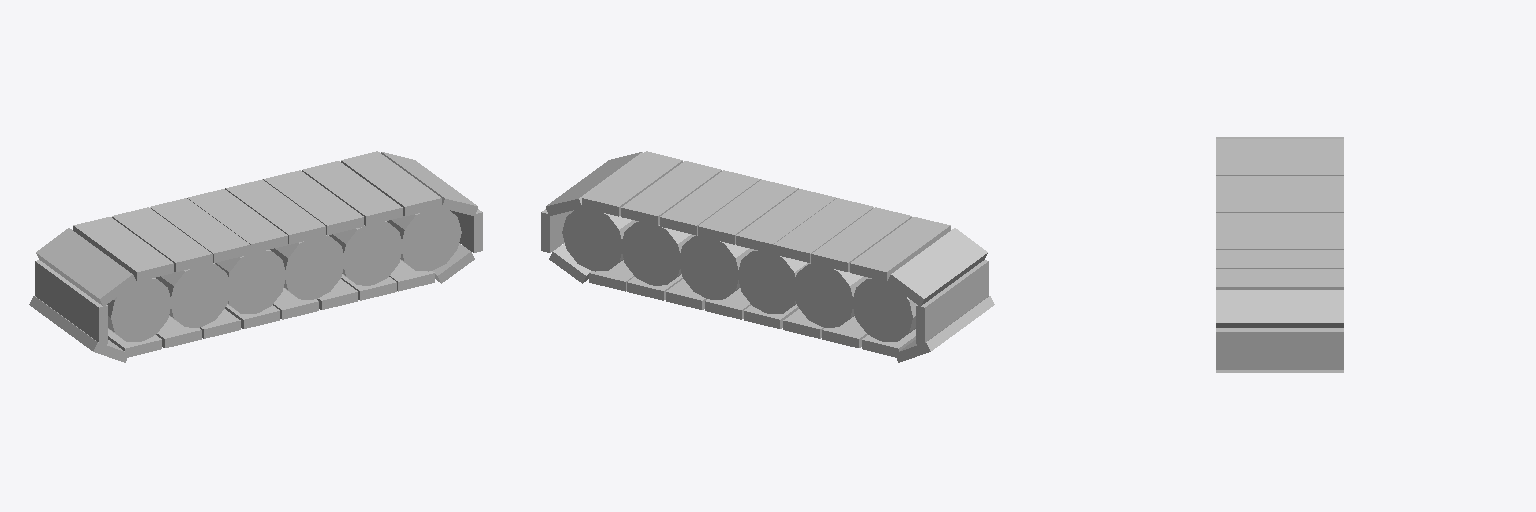
The model's file is ConveyorBeltMesh.obj.
The picture shows the model from 3 angles: view 1: azimuth 30°, elevation 25°; view 2: azimuth 150°, elevation 25°; view 3: azimuth 270°, elevation 25°; orthographic projection.
Visible parts, largest first — view 1: pCube3; view 2: pCube3; view 3: pCube3.
Part boxes in pixels (x1,y1,x2,y2): pCube3: (29,151,482,362); pCube3: (541,151,994,362); pCube3: (1216,137,1343,372).
Bounding box in the file's own units: 10.55 × 2.27 × 3.